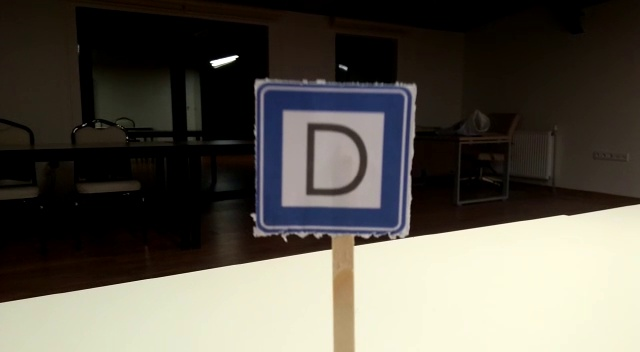durak: (254, 86, 413, 230)
